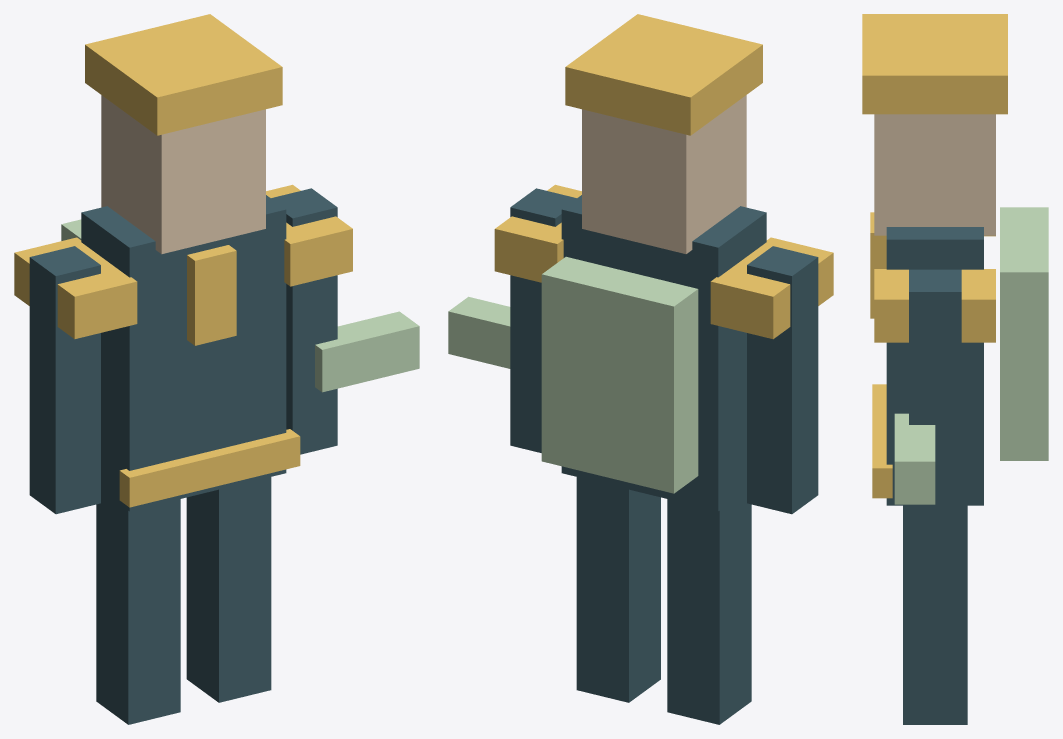
File: 05_auren_gearmantle_archivist_at.glb
The picture shows the model from 3 angles, left to right: view 1: azimuth 30°, elevation 25°; view 2: azimuth 150°, elevation 25°; view 3: azimuth 270°, elevation 25°; orthographic projection.
Parts seen in each view (by area): view 1: Auren Gearmantle, Archivist at; view 2: Auren Gearmantle, Archivist at; view 3: Auren Gearmantle, Archivist at.
Part boxes in pixels (bbox=[...]): Auren Gearmantle, Archivist at: bbox=[14, 14, 419, 724]; Auren Gearmantle, Archivist at: bbox=[448, 14, 833, 724]; Auren Gearmantle, Archivist at: bbox=[862, 14, 1048, 724].
Bounding box in the file's own units: 0.9549 × 1.64 × 0.4286.
